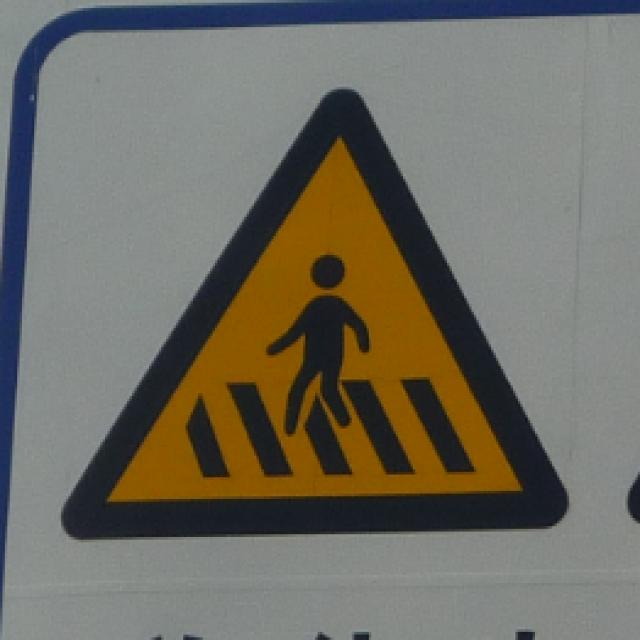Crossing: (57, 80, 581, 551)
